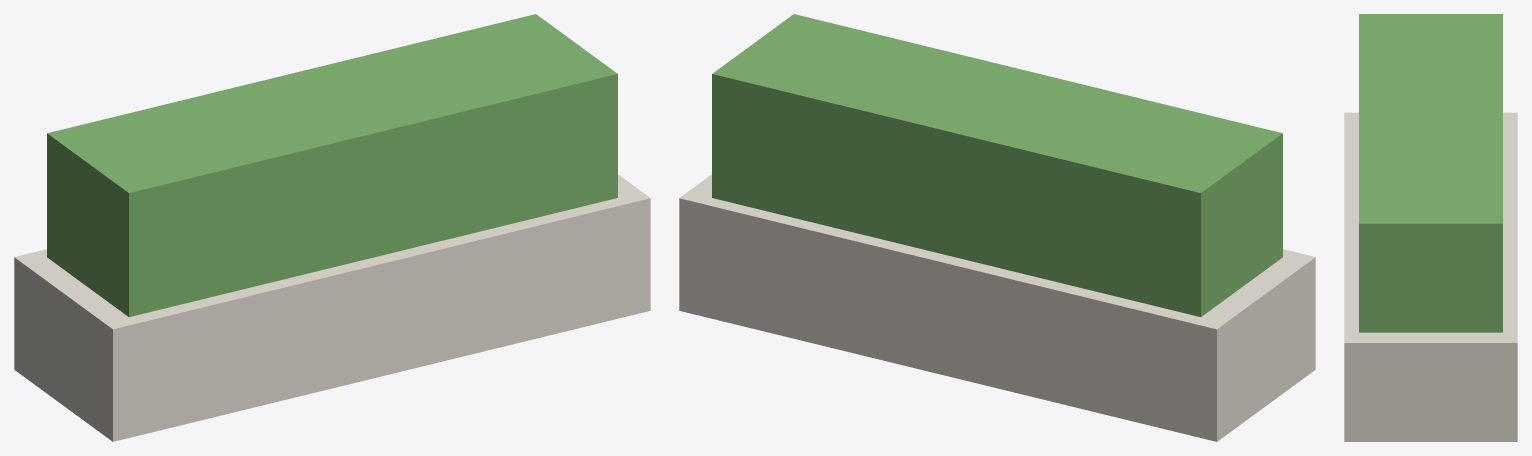
File: hedge_planter_01.glb
The picture shows the model from 3 angles, left to right: view 1: azimuth 30°, elevation 25°; view 2: azimuth 150°, elevation 25°; view 3: azimuth 270°, elevation 25°; orthographic projection. The views are drawn at different scales.
Parts seen in each view (by area): view 1: Hedge_Planter_01; view 2: Hedge_Planter_01; view 3: Hedge_Planter_01.
Boxes of the visible parts, <box> form: Hedge_Planter_01: <box>14,14,650,441</box>; Hedge_Planter_01: <box>679,14,1315,441</box>; Hedge_Planter_01: <box>1344,14,1517,441</box>.
Size of the model in its own units: 2.2 by 0.925 by 0.7.
